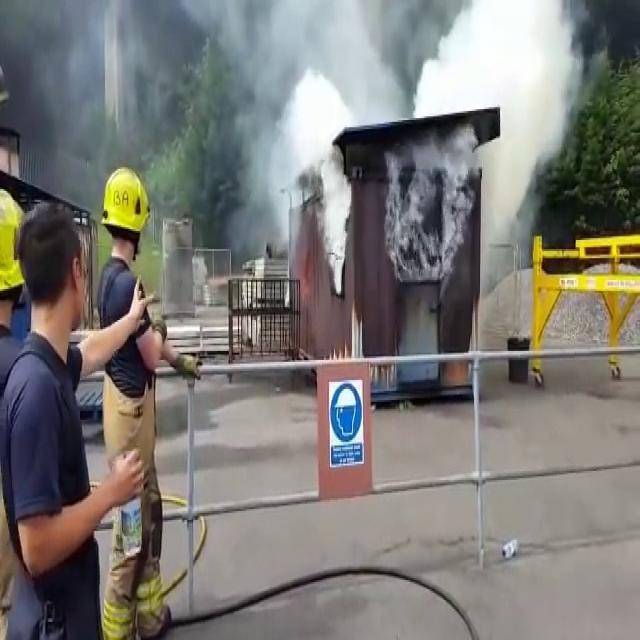Smoke: (276, 42, 566, 101), (504, 112, 530, 247)
